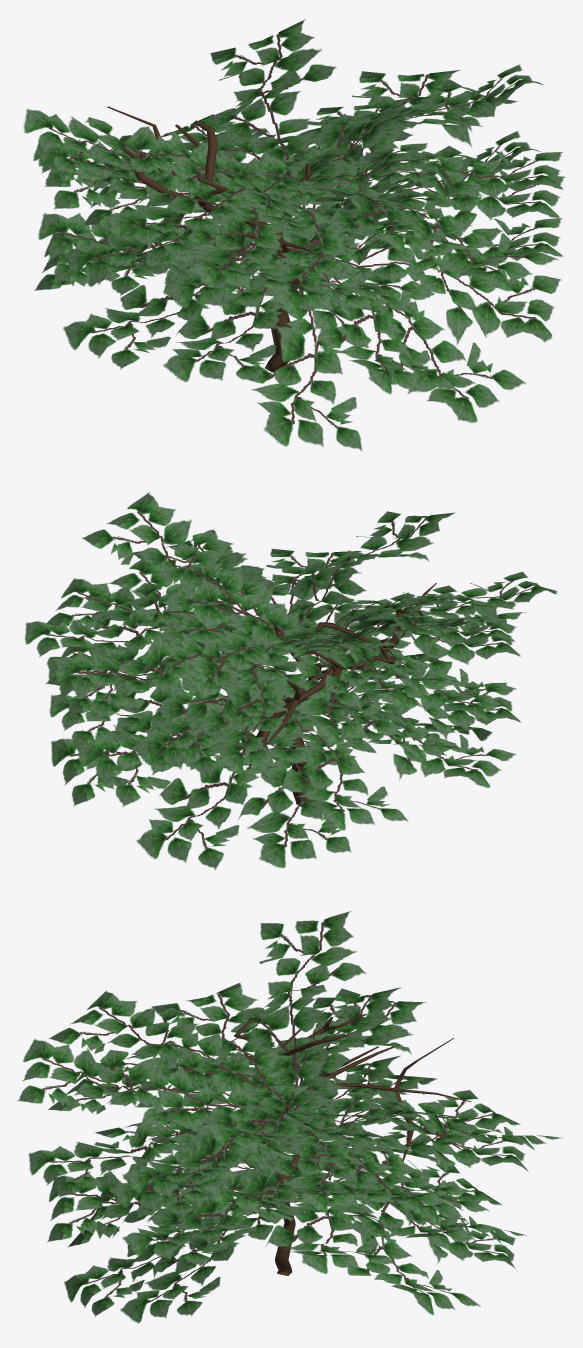
File: bush2_mesh.glb
3 views of the same model, one above another, from view 1: azimuth 30°, elevation 25°; view 2: azimuth 150°, elevation 25°; view 3: azimuth 270°, elevation 25° (orthographic). The views are drawn at different scales.
Parts seen in each view (by area): view 1: Empty.020; view 2: Empty.020; view 3: Empty.020.
Part boxes in pixels (x1,y1,x2,y2): Empty.020: [23, 19, 565, 451]; Empty.020: [24, 492, 557, 870]; Empty.020: [17, 911, 562, 1323].
Bounding box in the file's own units: 2.87 × 1.6 × 2.98.
14 materials, 14 textured.
